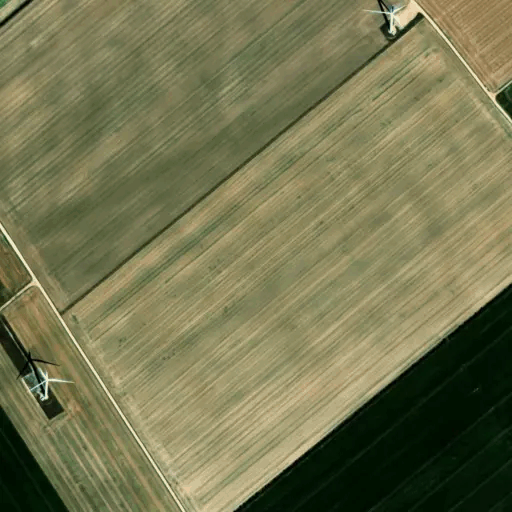wt: (9, 333, 78, 415), (359, 1, 413, 45)
